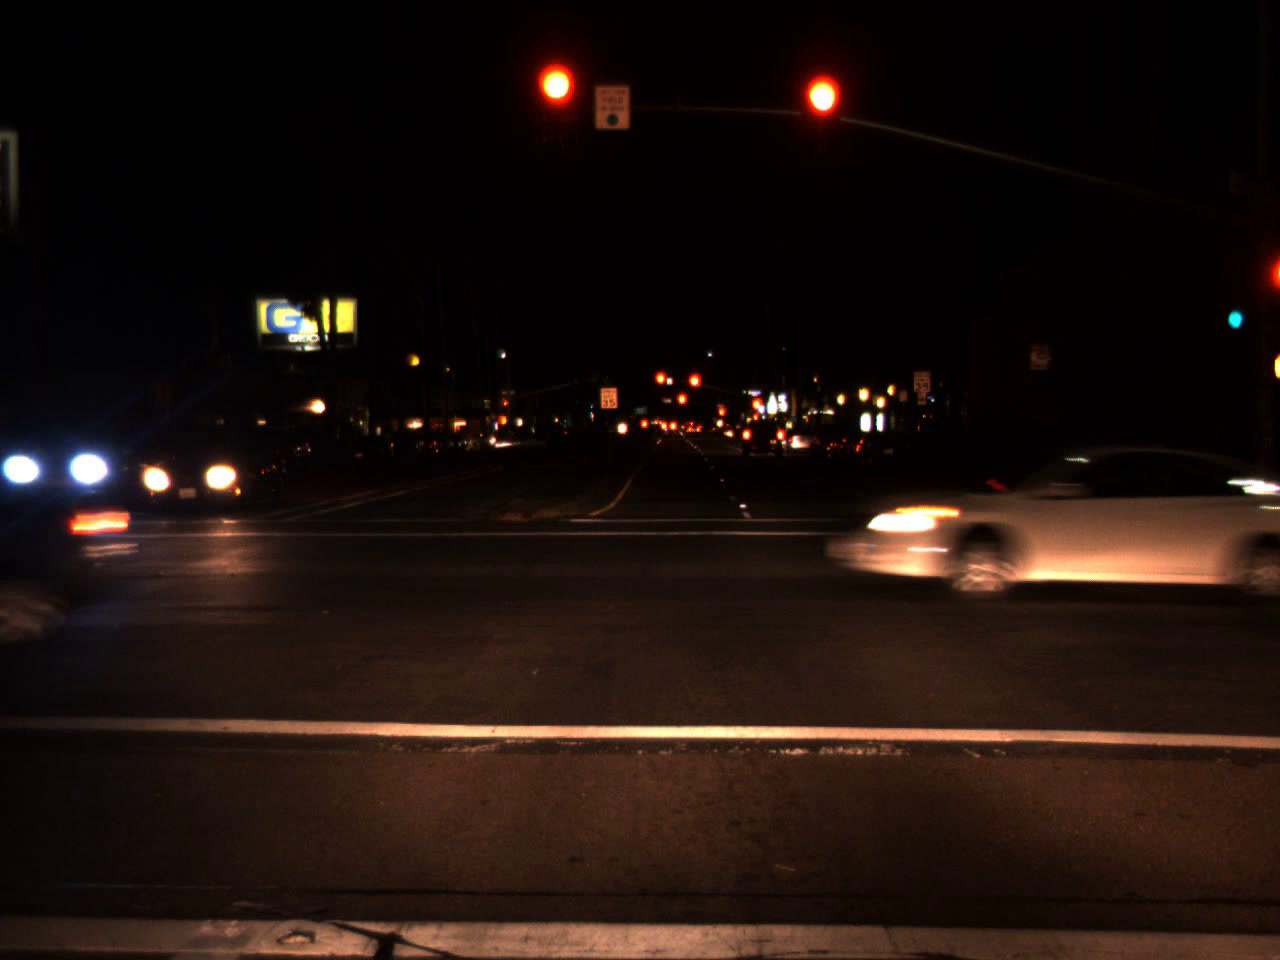stop: (537, 64, 577, 142), (802, 76, 842, 154), (653, 369, 671, 401), (686, 371, 702, 403), (749, 396, 764, 425), (675, 391, 688, 418), (717, 406, 727, 427), (502, 401, 508, 411)
